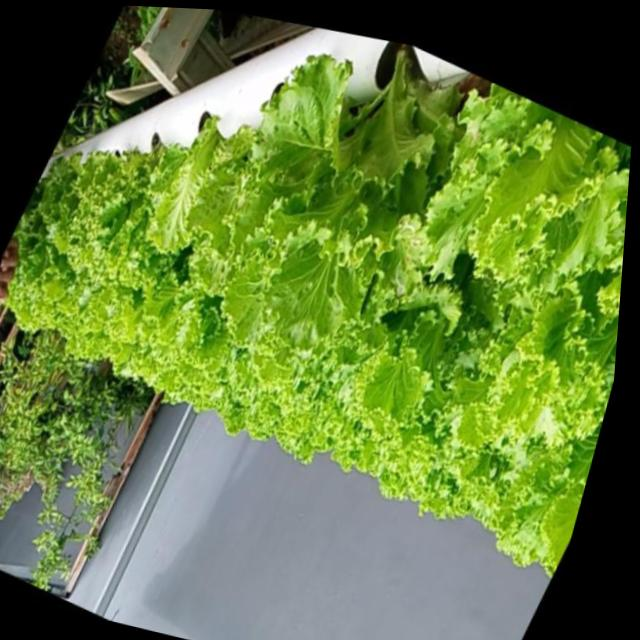Mature: (195, 44, 474, 353), (57, 145, 197, 290)
